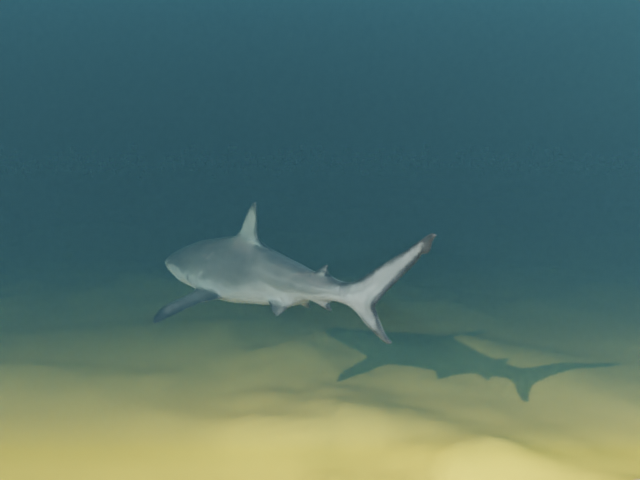Carribean Shark.001: (152, 201, 436, 344)
